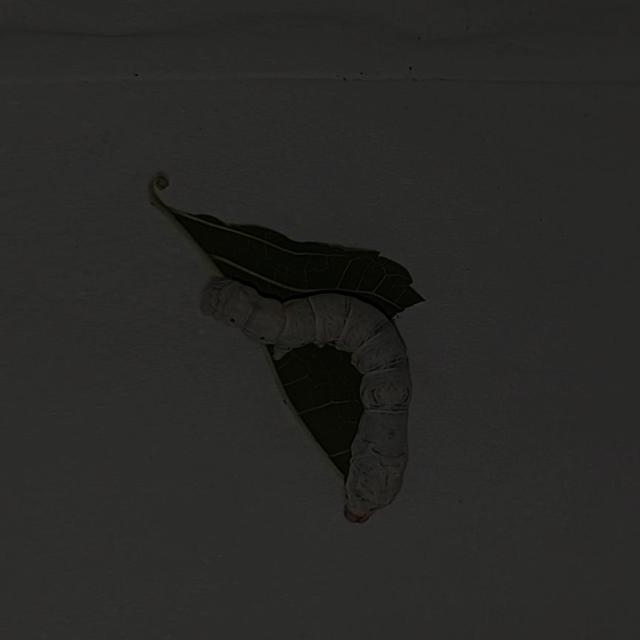Healthy: (195, 265, 415, 531)
